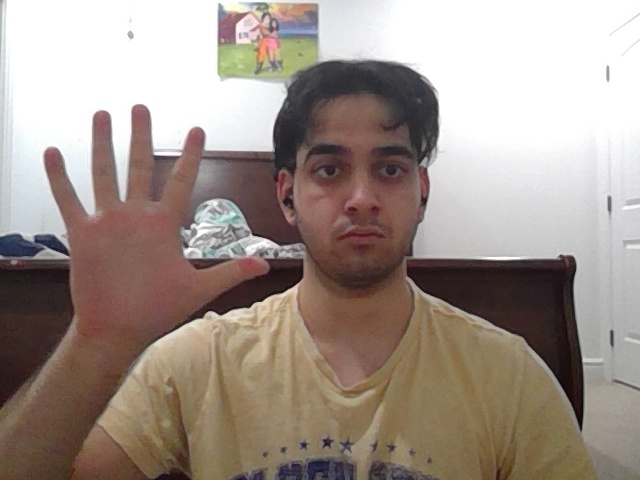hello: (42, 103, 277, 320)
